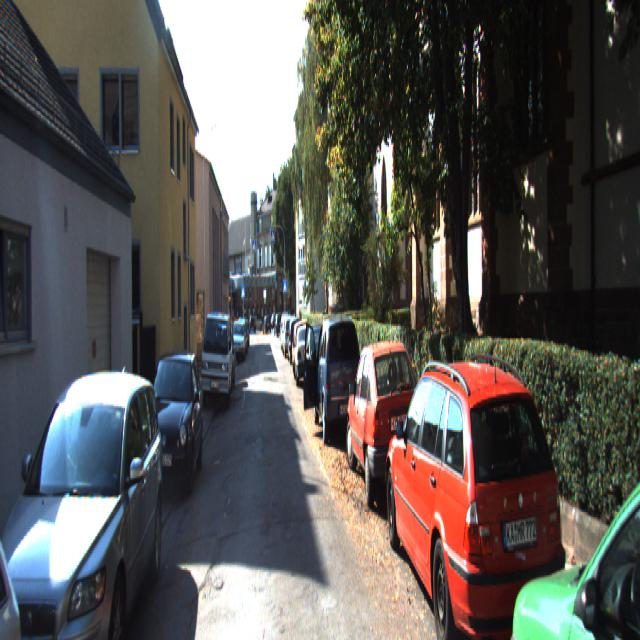Car: (374, 346, 576, 638), (0, 366, 164, 638), (500, 366, 640, 638), (342, 332, 426, 516), (136, 345, 202, 510), (312, 312, 364, 444), (200, 309, 232, 411), (291, 322, 317, 388), (232, 319, 246, 362)
